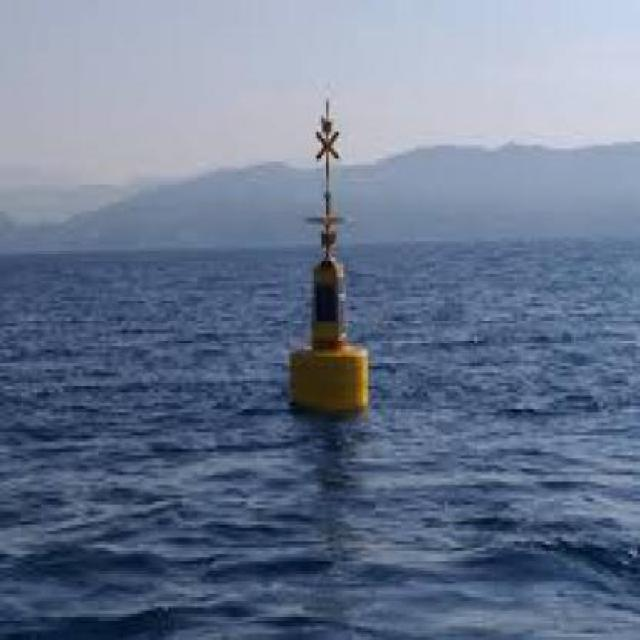buoy: (283, 87, 381, 427)
